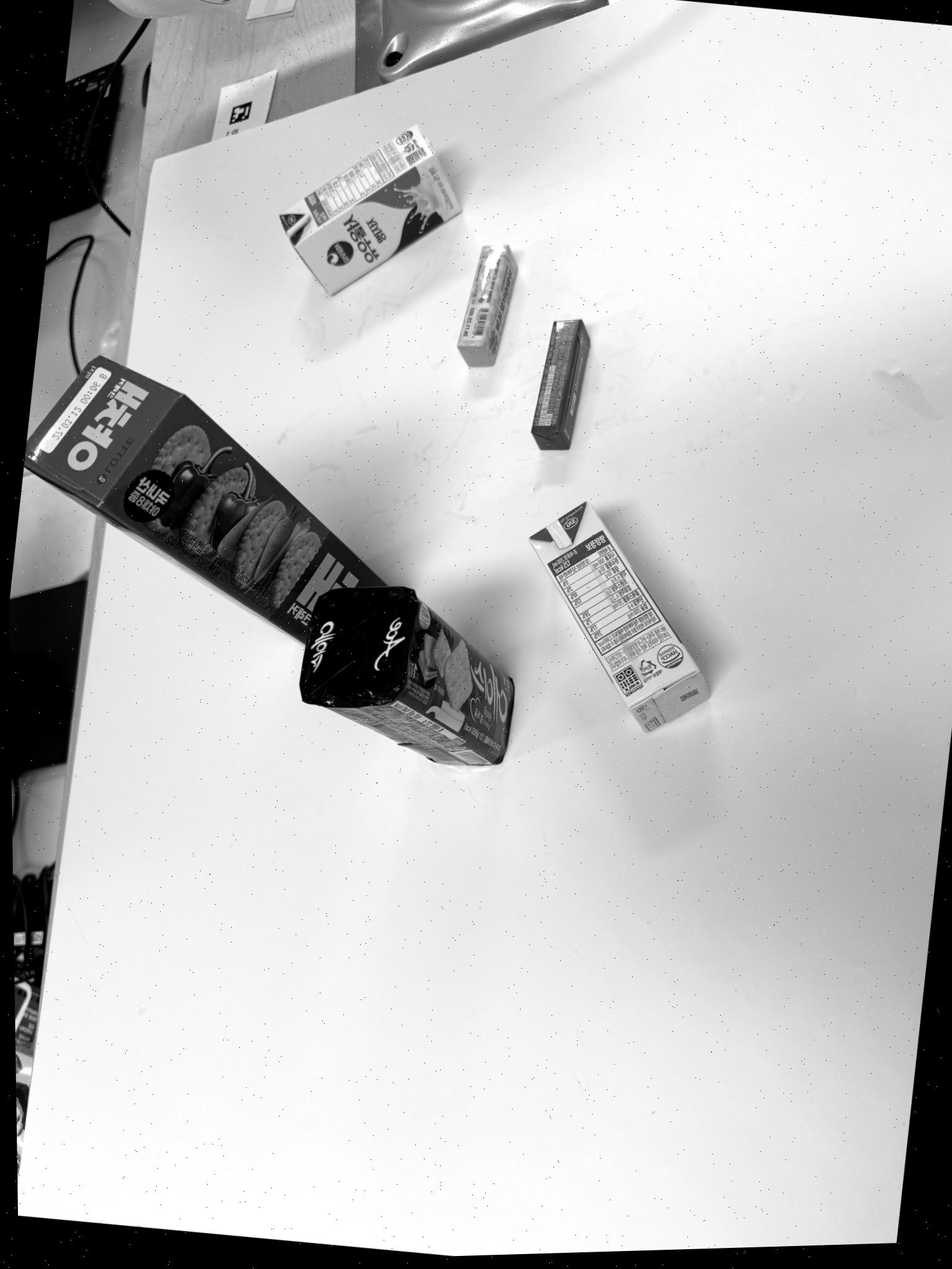cracker_ace: (299, 587, 513, 767)
cracker_vege: (26, 355, 386, 646)
gum_green: (532, 319, 590, 450)
gum_yellow: (457, 245, 518, 367)
milk_blue: (280, 124, 460, 294)
milk_green: (530, 502, 709, 732)
